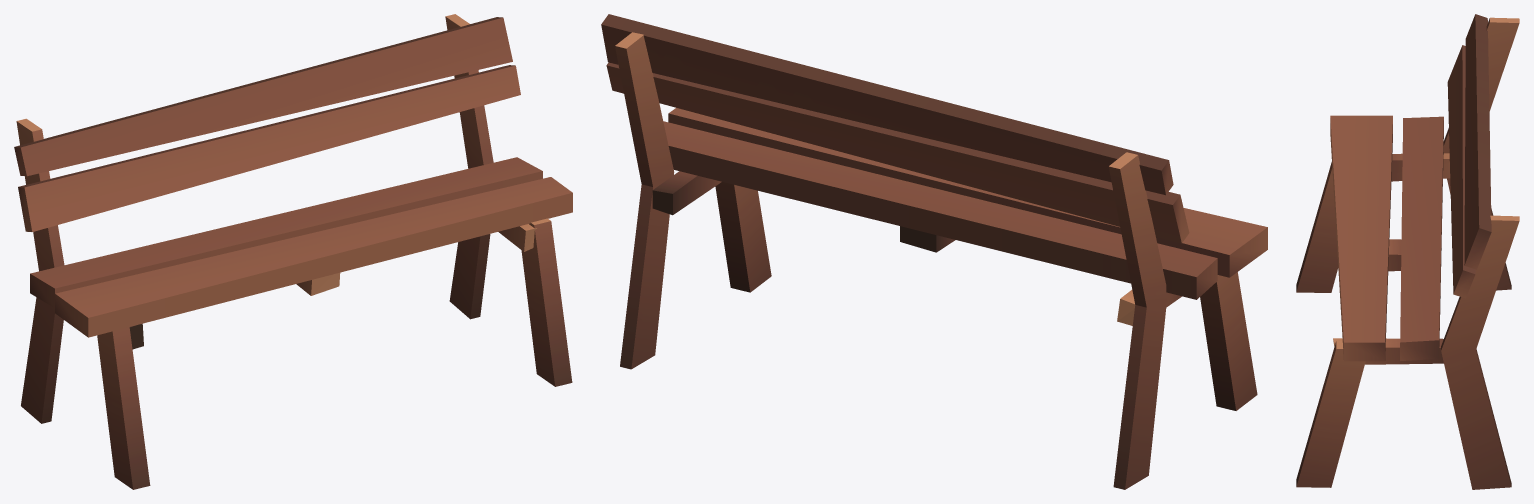
Rendered from bench.fbx.
3 renders of one model, left to right at view 1: azimuth 30°, elevation 25°; view 2: azimuth 150°, elevation 25°; view 3: azimuth 270°, elevation 25°, orthographic. The views are drawn at different scales.
Parts seen in each view (by area): view 1: Bench; view 2: Bench; view 3: Bench.
Part boxes in pixels (x1=…): Bench: x1=14, y1=14, x2=572, y2=489; Bench: x1=601, y1=14, x2=1267, y2=489; Bench: x1=1296, y1=14, x2=1519, y2=489.
Size of the model in its own units: 132 by 73.55 by 54.25.
